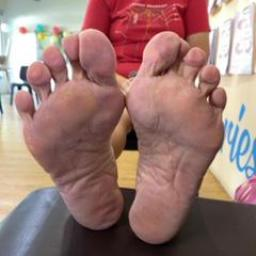Plantar View -Both Feet-: (4, 10, 241, 250)
